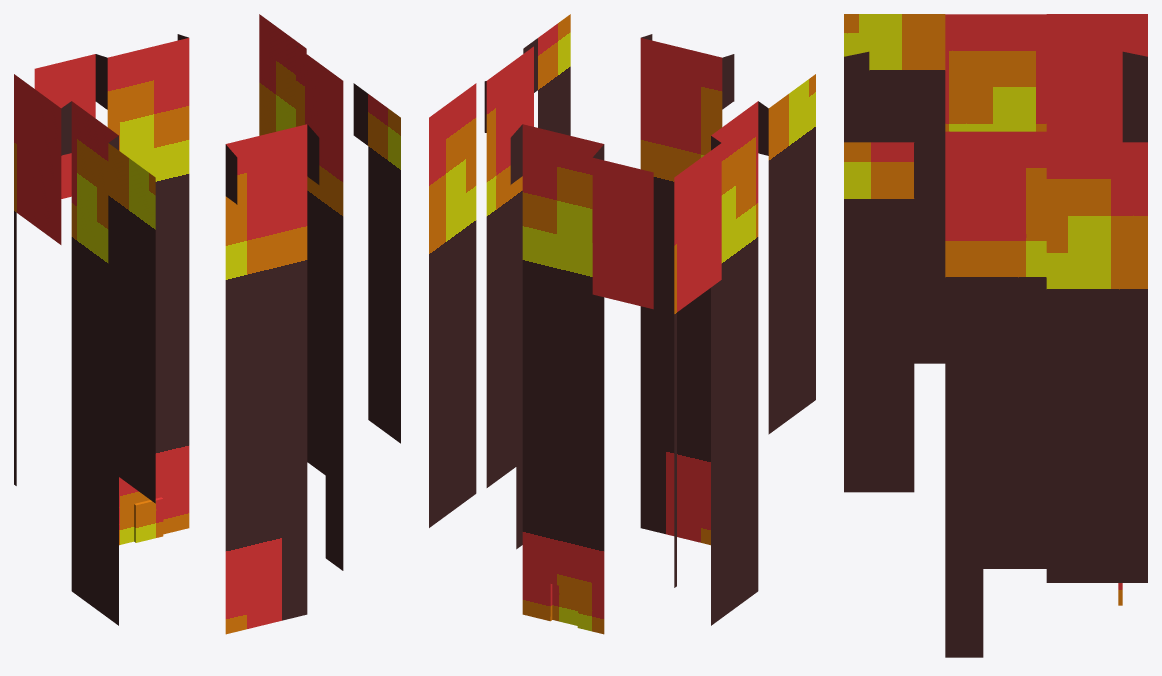
Rendered from Predio_02_V_01.fbx.
3 views of the same model, side by side, from view 1: azimuth 30°, elevation 25°; view 2: azimuth 150°, elevation 25°; view 3: azimuth 270°, elevation 25° (orthographic). The views are drawn at different scales.
Parts seen in each view (by area): view 1: cuboid.007; view 2: cuboid.007; view 3: cuboid.007.
Boxes of the visible parts, x1,y1,x2,y2 form: cuboid.007: (14, 14, 400, 634); cuboid.007: (429, 14, 815, 634); cuboid.007: (844, 14, 1147, 657).
Size of the model in its own units: 4000 by 7791 by 4000.
